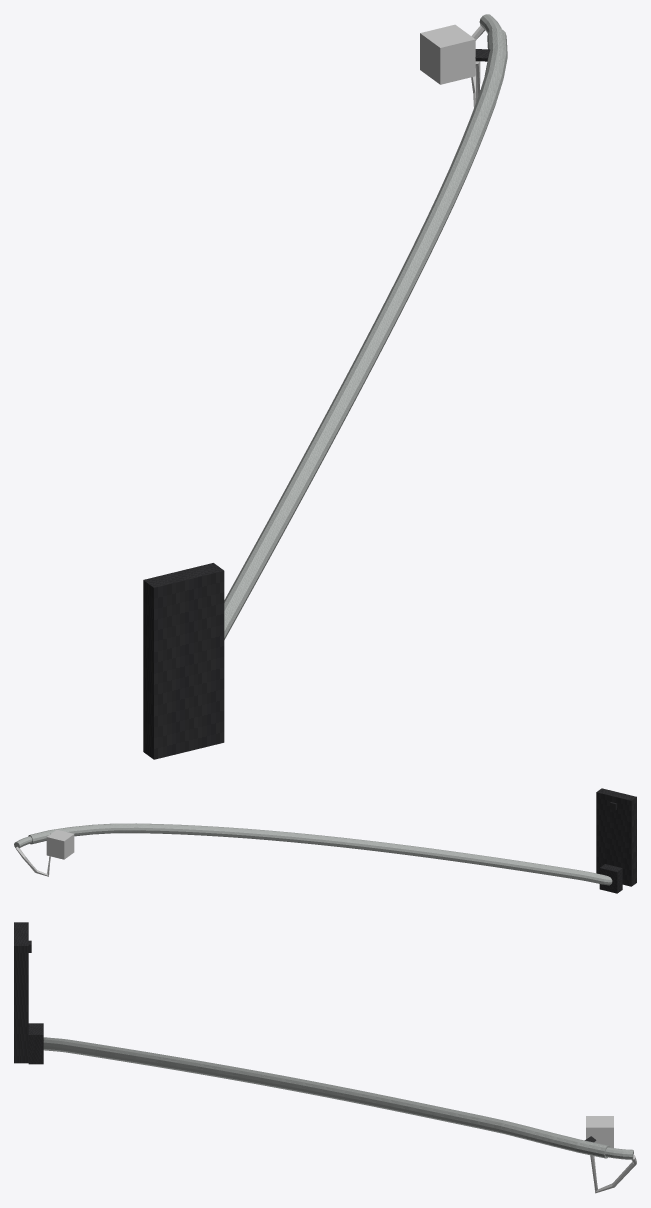
The model's file is arm_5_right_left_wired.obj.
3 views of the same model, one above another, from view 1: azimuth 30°, elevation 25°; view 2: azimuth 150°, elevation 25°; view 3: azimuth 270°, elevation 25° (orthographic). The views are drawn at different scales.
Visible parts, largest first — view 1: pole_light_mount_5_right_left_wired; view 2: pole_light_mount_5_right_left_wired; view 3: pole_light_mount_5_right_left_wired.
Boxes of the visible parts, left/top/right/bottom form: pole_light_mount_5_right_left_wired: left=143, top=14, right=507, bottom=759; pole_light_mount_5_right_left_wired: left=14, top=788, right=636, bottom=893; pole_light_mount_5_right_left_wired: left=14, top=922, right=636, bottom=1193.
Bounding box in the file's own units: 4.22 × 1.24 × 4.21.
